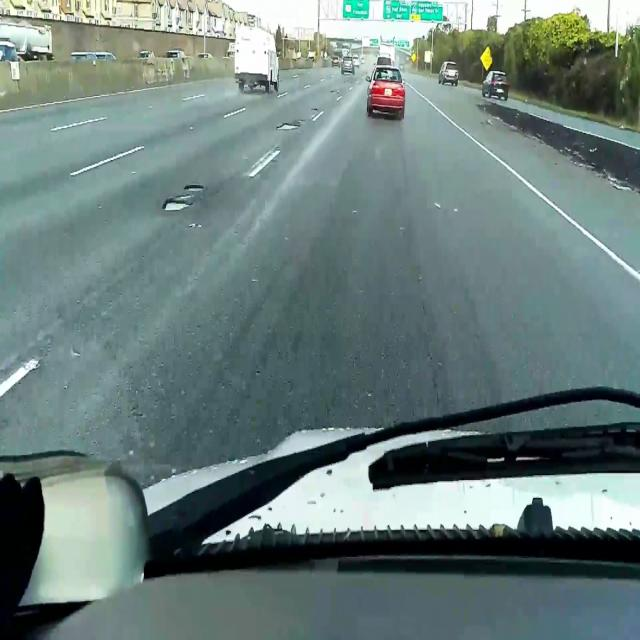Pothole: (160, 201, 192, 212), (277, 122, 299, 131), (184, 184, 204, 192), (311, 108, 318, 112), (330, 90, 337, 93)
